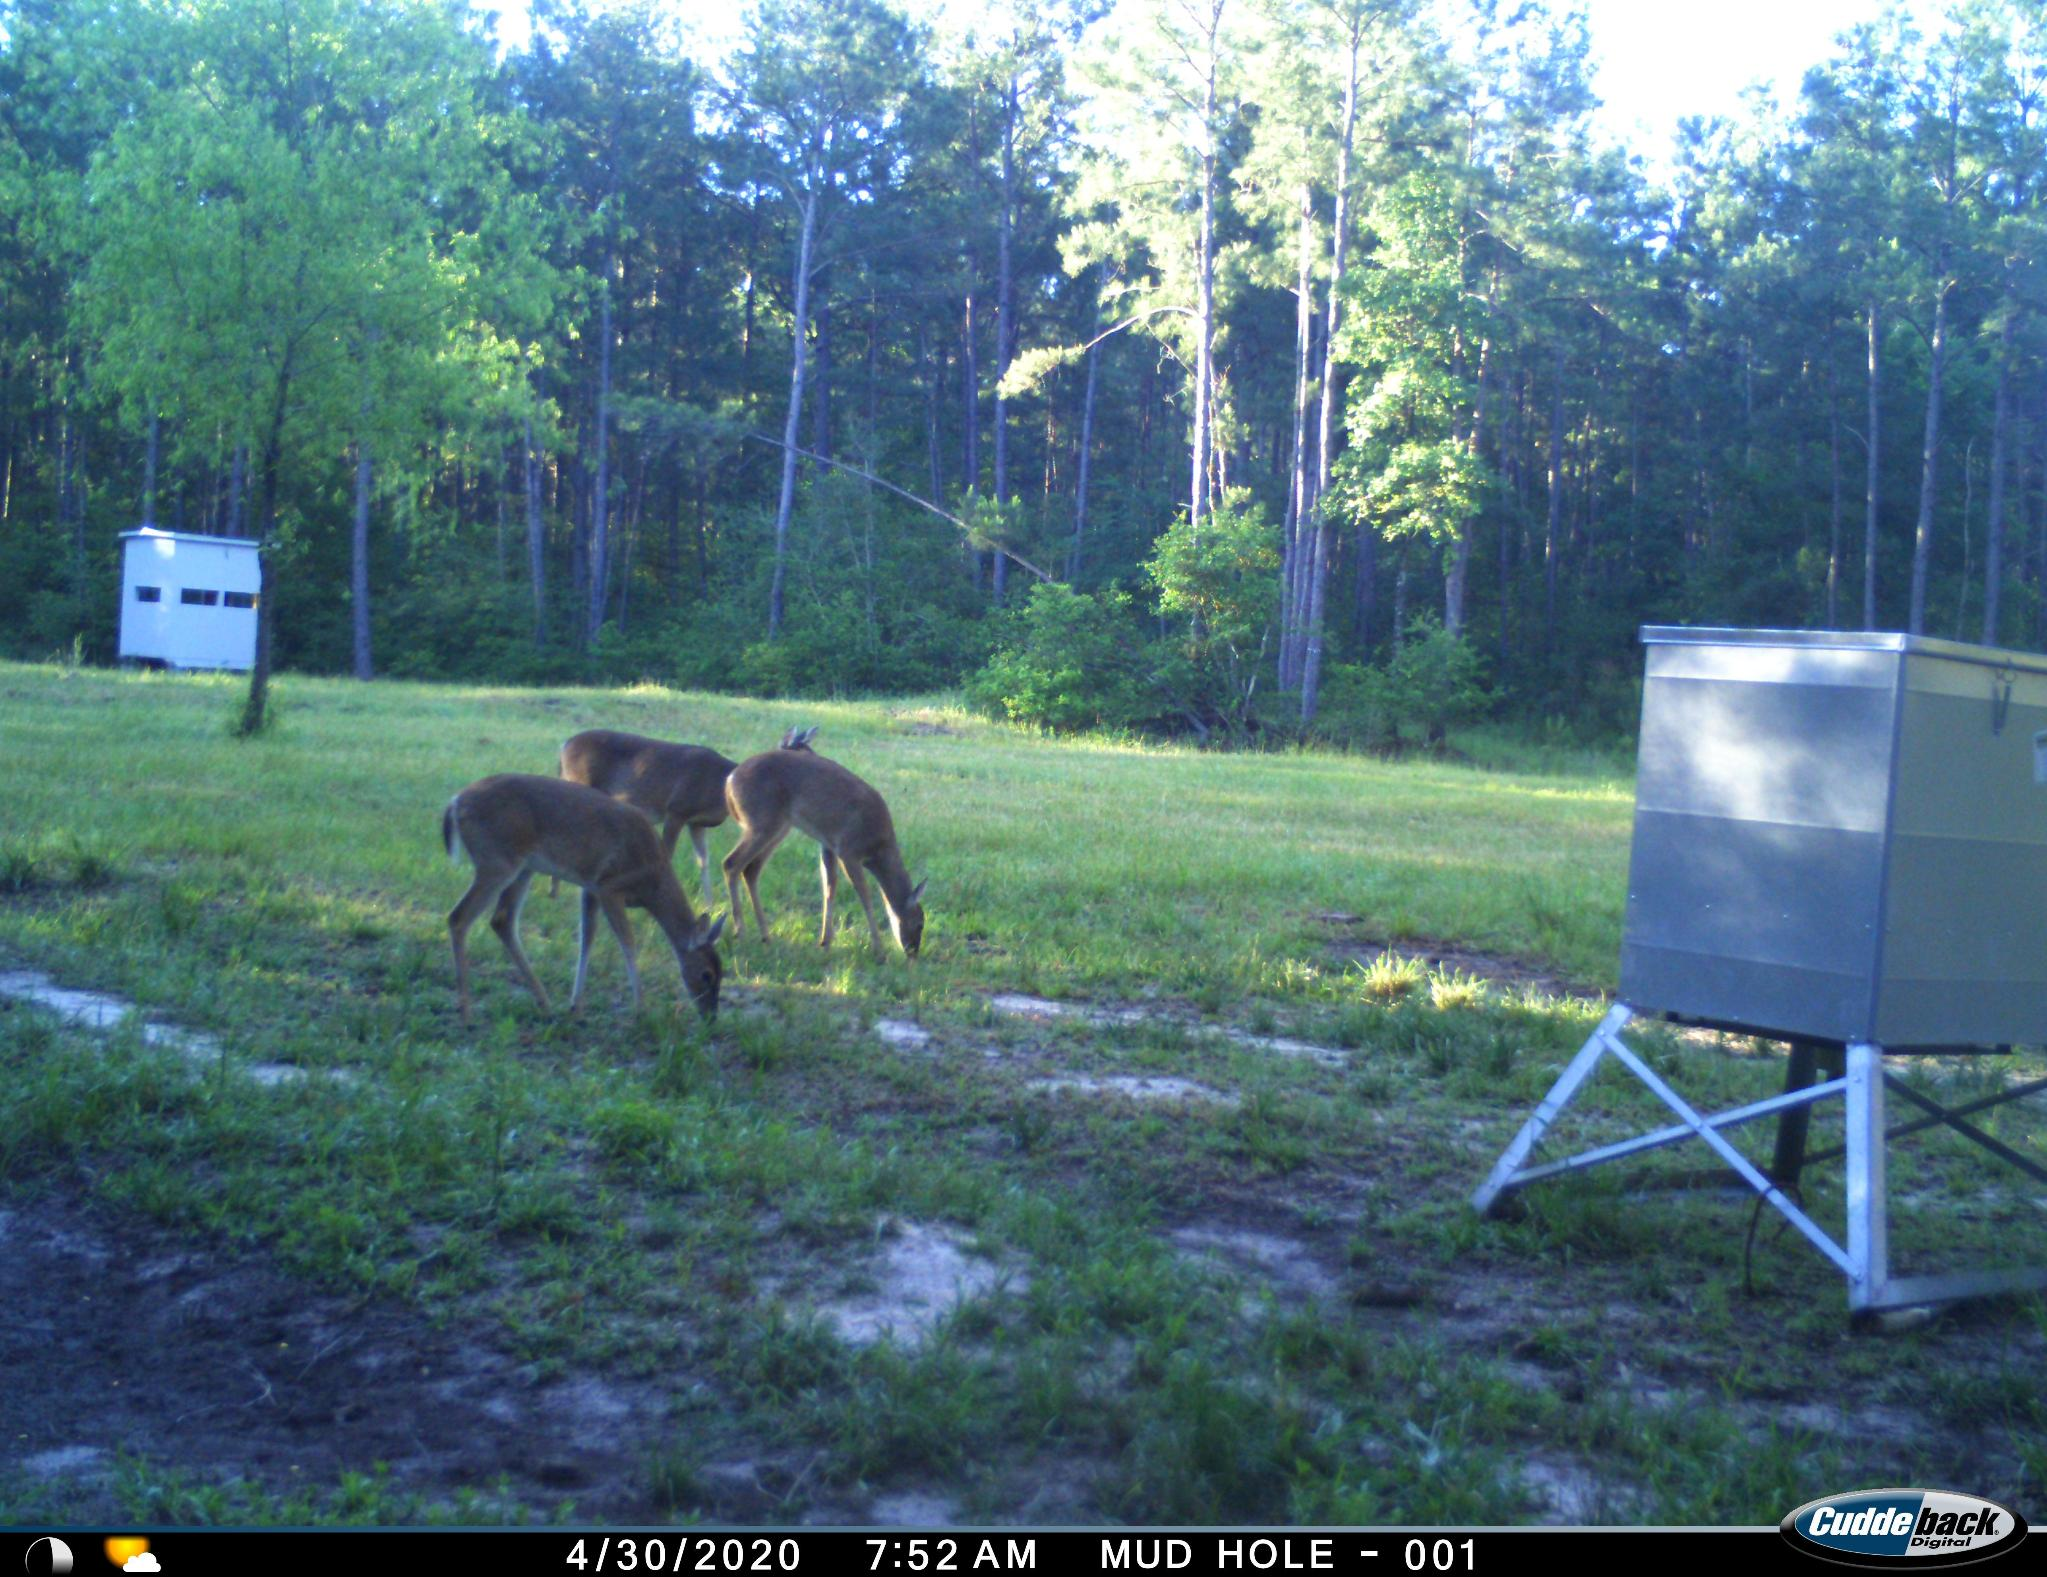Deer: (434, 764, 727, 1040), (729, 749, 936, 976), (555, 727, 739, 896)
